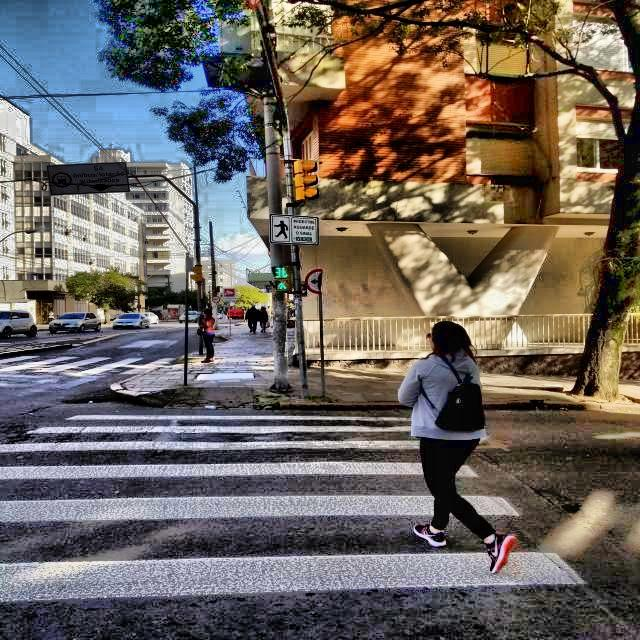faixa de pedestre: (0, 409, 572, 598)
